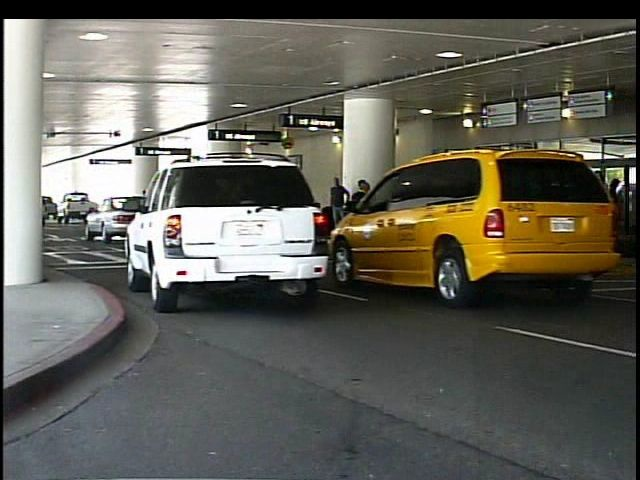person: (510, 166, 539, 261), (352, 178, 378, 259), (328, 172, 355, 242)
